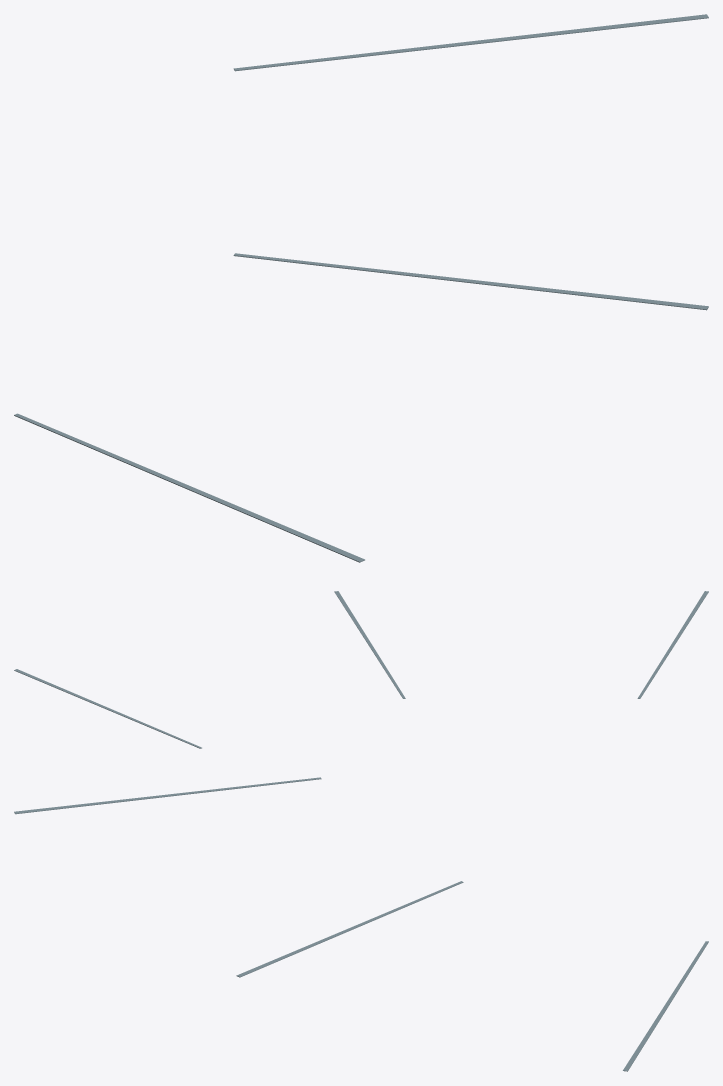
The model's file is Transit_Walk_W2_Curve90_R4_MarkPaverJoints.glb.
3 views of the same model, one above another, from view 1: azimuth 30°, elevation 25°; view 2: azimuth 150°, elevation 25°; view 3: azimuth 270°, elevation 25° (orthographic). The views are drawn at different scales.
Parts seen in each view (by area): view 1: Transit_Walk_W2_Curve90_R4_MarkPaverJoints; view 2: Transit_Walk_W2_Curve90_R4_MarkPaverJoints; view 3: Transit_Walk_W2_Curve90_R4_MarkPaverJoints.
Boxes of the visible parts, box(x1,y1,x2,y2) form: Transit_Walk_W2_Curve90_R4_MarkPaverJoints: box(14, 14, 708, 562); Transit_Walk_W2_Curve90_R4_MarkPaverJoints: box(14, 591, 708, 748); Transit_Walk_W2_Curve90_R4_MarkPaverJoints: box(14, 777, 708, 1071).
Size of the model in its own units: 3.94 by 0.003 by 3.94.
